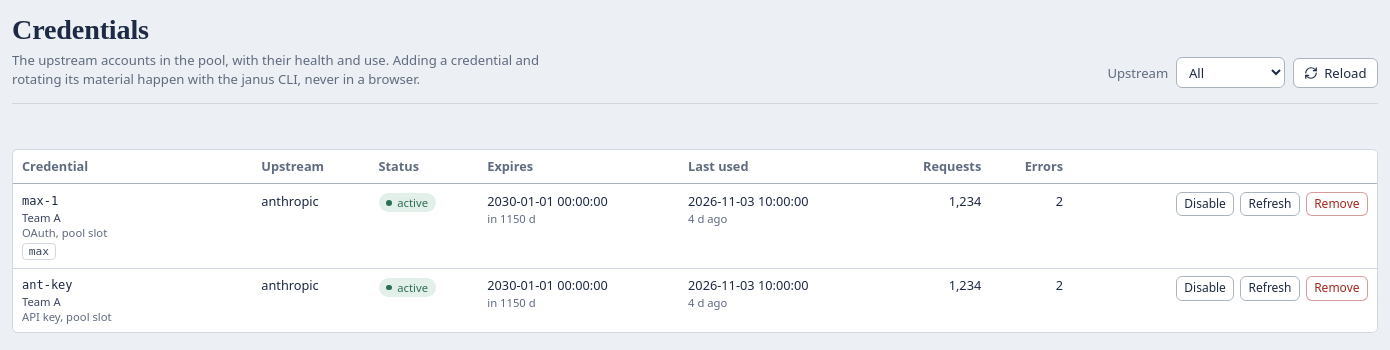
upstream instances › filters credentials by instance name and shows tags
Expected: the list named "Tags of max-1" reads "max", [29,245,49,258]
Select "claude" in the dropdown labelled "Upstream" at (1230, 73), box [1176,57,1285,88]
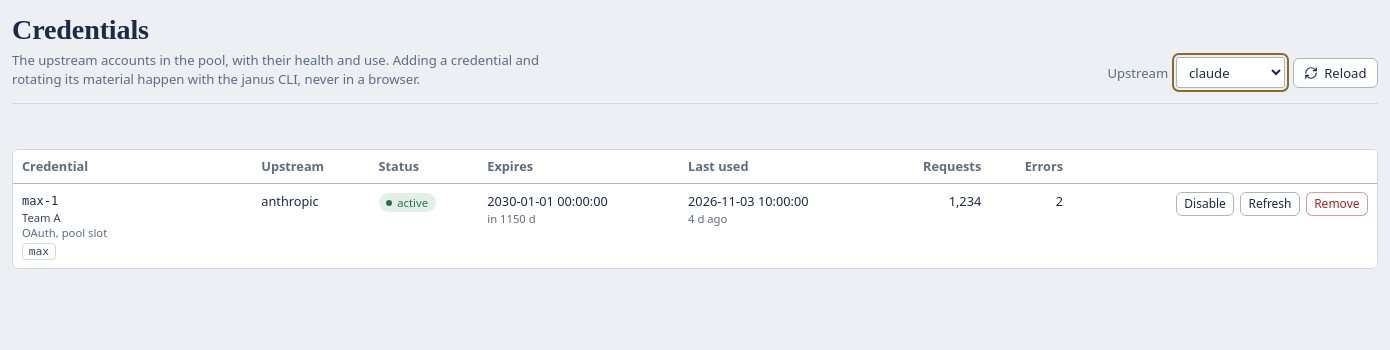
Expected: the row "max-1" is shown, [13,184,1377,268]
Expected: the text "ant-key" is gone
